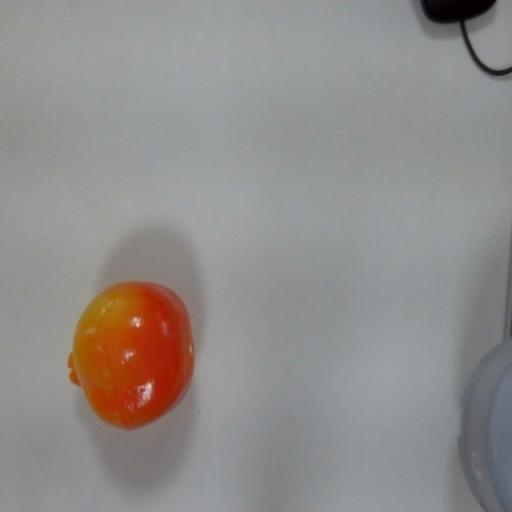Ripe: (68, 277, 198, 435)
